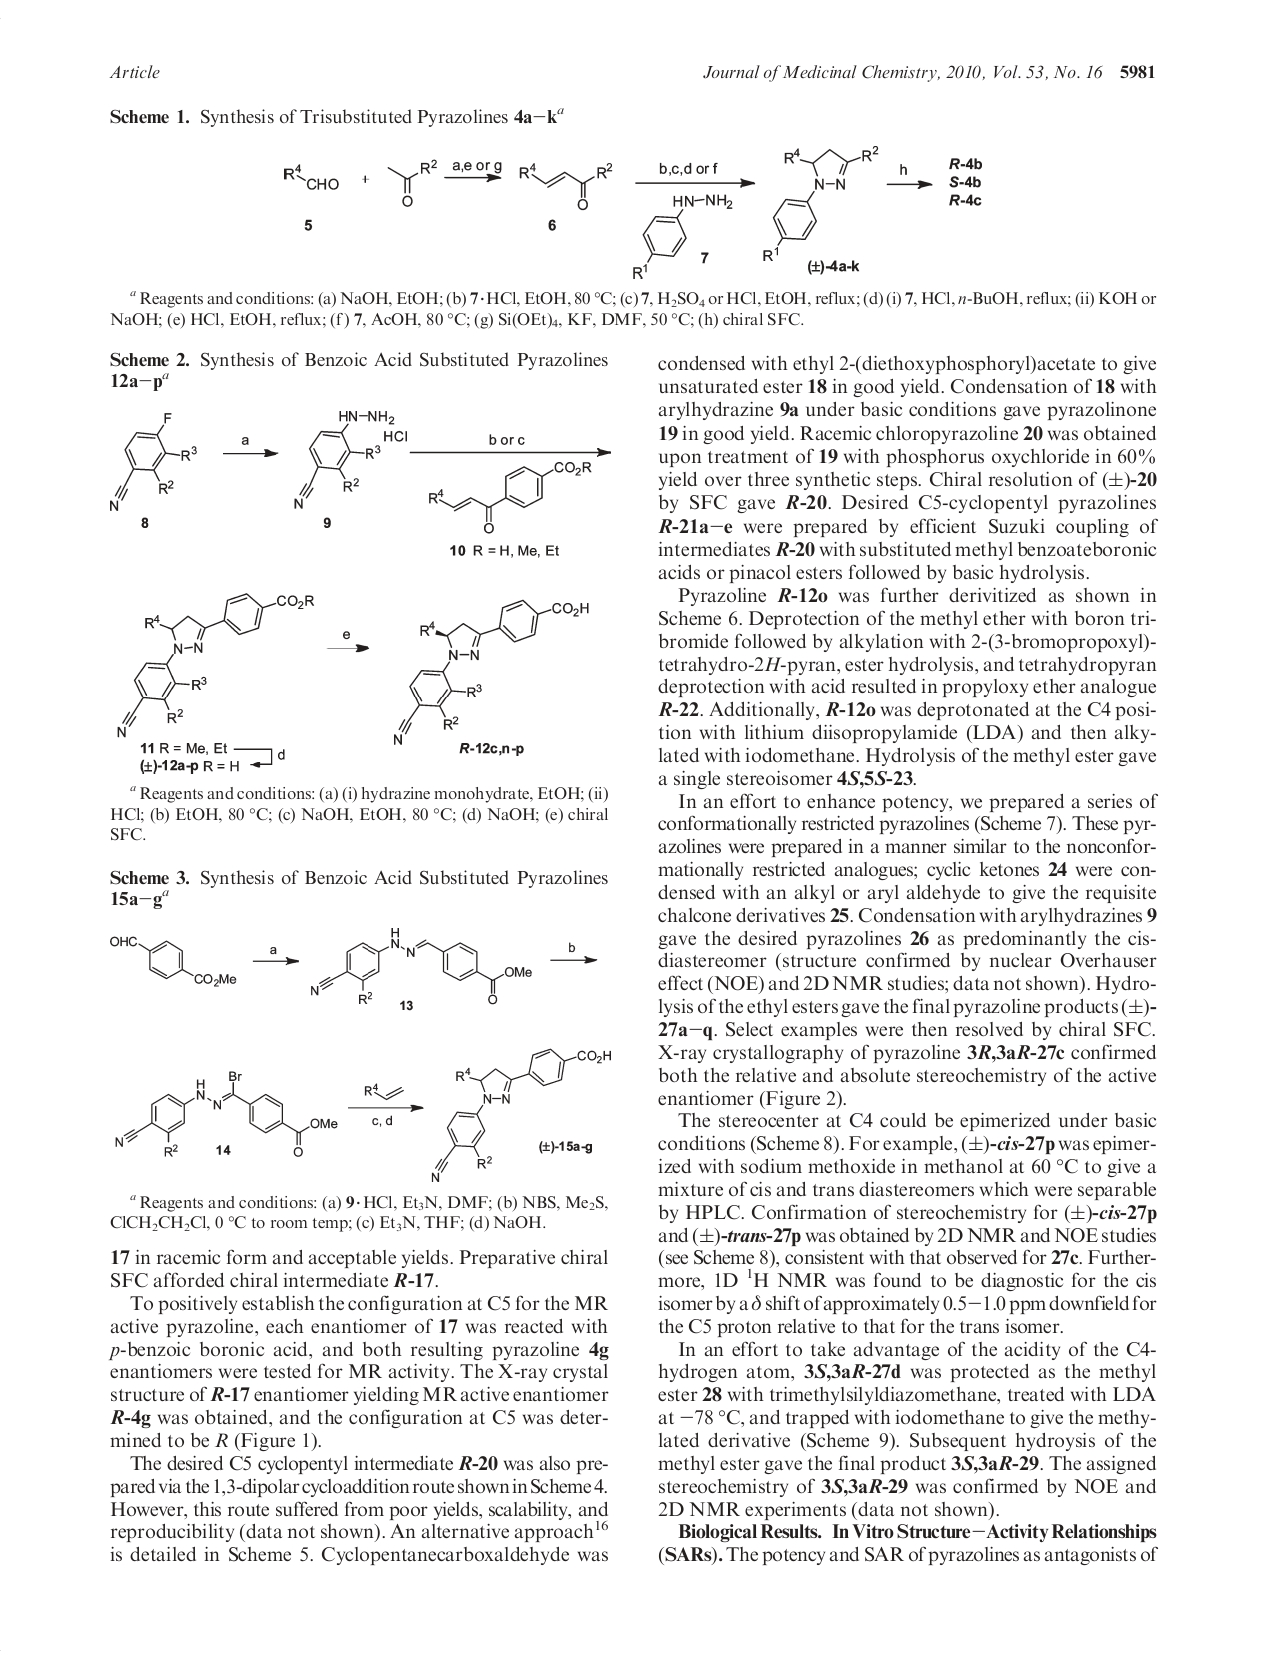exist_molecular: (114, 590, 316, 741), (390, 597, 590, 747), (428, 1043, 614, 1186), (113, 1069, 339, 1158), (307, 926, 532, 1007), (759, 142, 880, 265), (426, 457, 593, 536), (291, 408, 410, 512), (105, 410, 198, 515), (105, 934, 239, 989), (516, 158, 614, 211), (386, 158, 438, 209), (281, 164, 340, 192), (363, 1081, 410, 1102)
